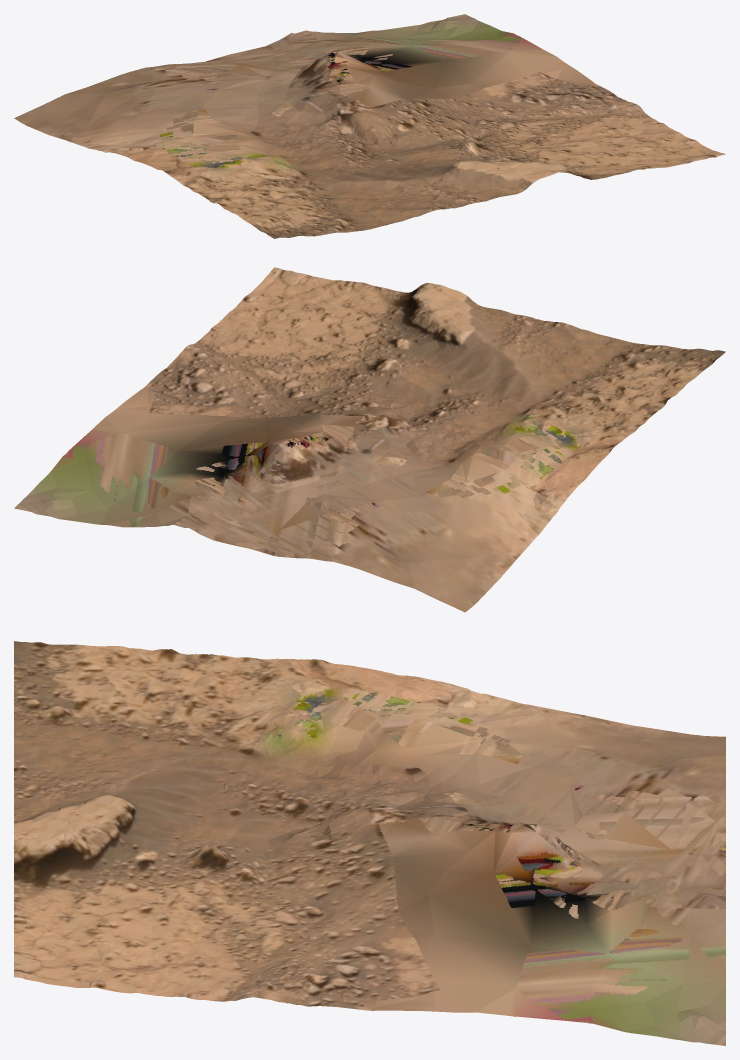
3 renders of one model, top to bottom at view 1: azimuth 30°, elevation 25°; view 2: azimuth 150°, elevation 25°; view 3: azimuth 270°, elevation 25°, orthographic. The views are drawn at different scales.
Bounding box in the file's own units: 1.04 × 0.1691 × 1.04.
2 materials, 2 textured.
